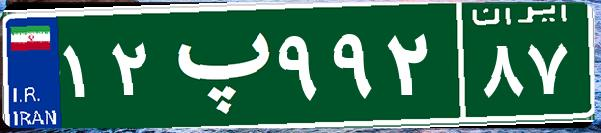1: (57, 26, 110, 107)
2: (385, 28, 445, 110), (110, 28, 158, 105)
7: (525, 38, 570, 115)
8: (475, 38, 525, 113)
9: (273, 28, 330, 110), (330, 28, 385, 110)
پ: (158, 15, 273, 115)
